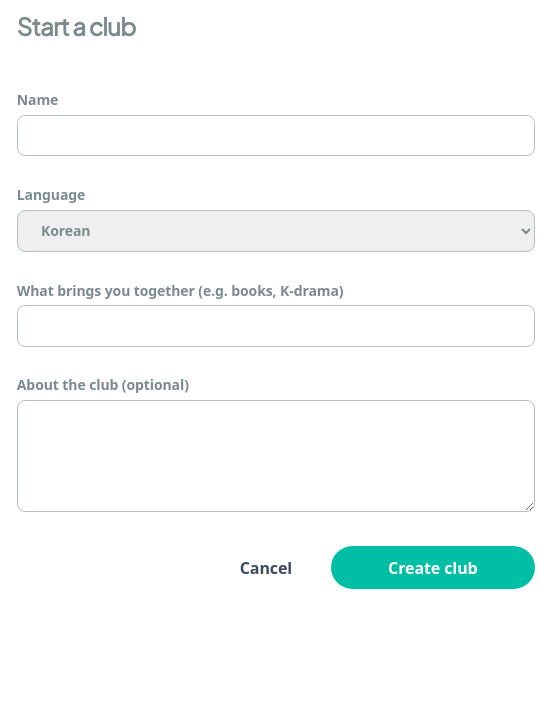
Test: shows a server refusal in the form
Type "Club" into the field with test id "cf-name" at (276, 135), box [17,115,535,156]
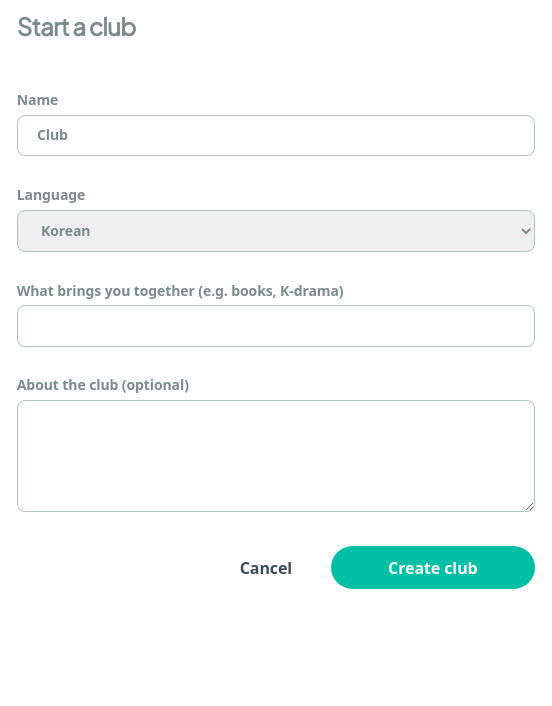
Click the button with test id "cf-submit" at (433, 568), box [330,546,535,589]
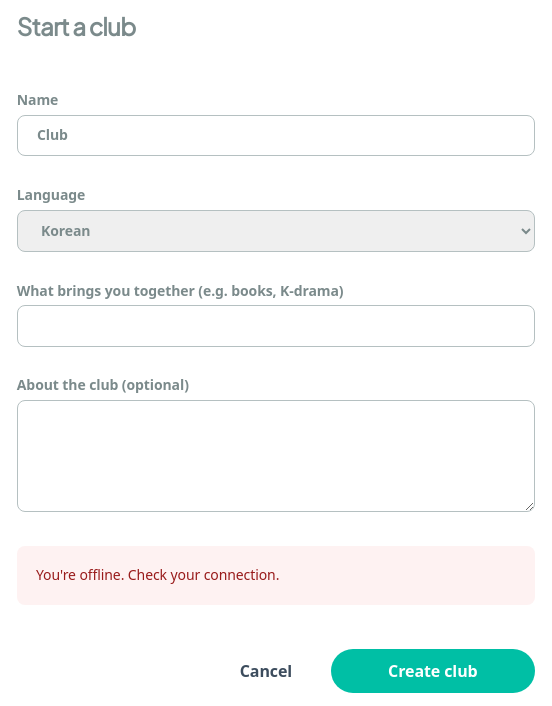
Result: the message with test id "cf-server-error" shows "You're offline" at [36,565,279,584]
